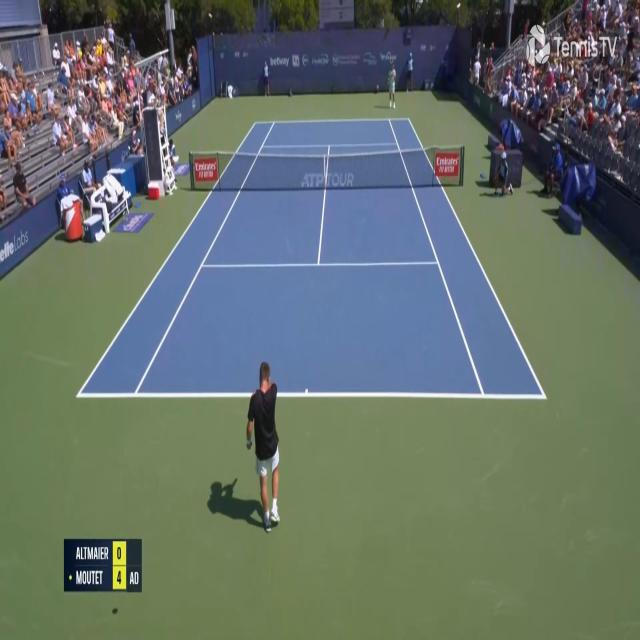tennis-player: (244, 356, 284, 536), (386, 65, 398, 109)
